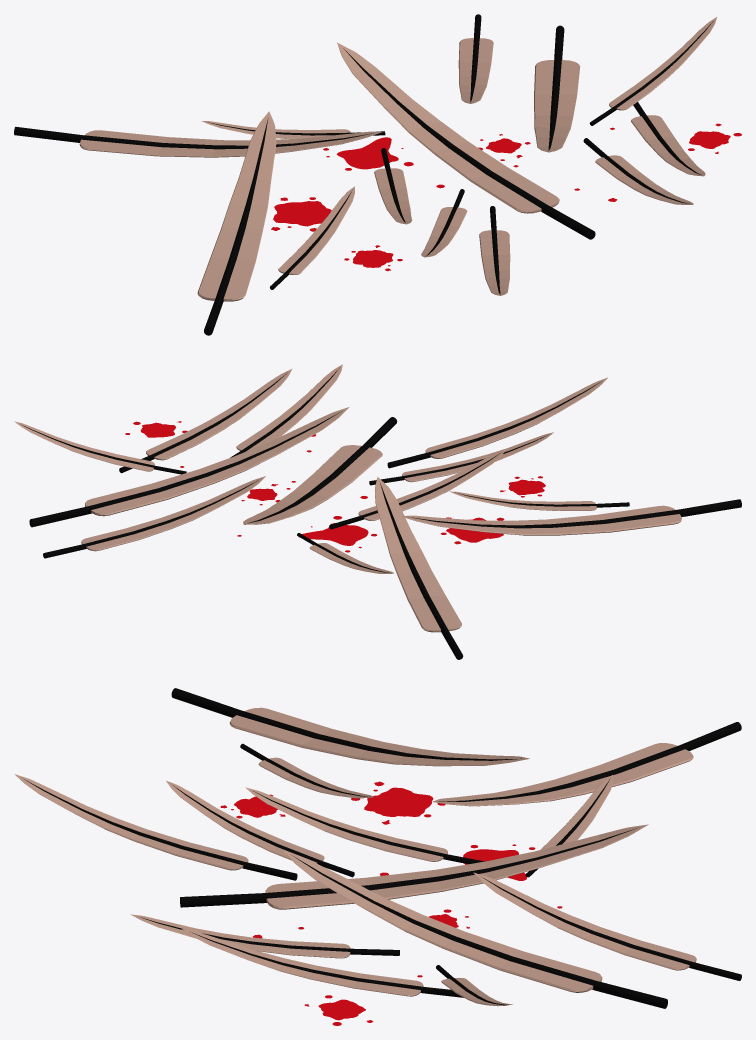
File: palok.glb
3 views of the same model, one above another, from view 1: azimuth 30°, elevation 25°; view 2: azimuth 150°, elevation 25°; view 3: azimuth 270°, elevation 25° (orthographic). The views are drawn at different scales.
Visible parts, largest first — view 1: palok1, palok13, palok7, palok3, palok12, palok8, palok10, palok11, palok4, palok5, palok14, palok9 (+5 smaller); view 2: palok3, palok7, palok13, palok1, palok12, palok11, palok10, palok5, palok14, palok8, palok9, palok4 (+3 smaller); view 3: palok3, palok1, palok13, palok7, palok12, palok11, palok10, palok14, palok5, palok9, palok4, palok6 (+5 smaller).
Part boxes in pixels (<box>): palok1: <box>337,42,595,239</box>; palok13: <box>197,111,276,335</box>; palok7: <box>14,126,382,157</box>; palok3: <box>534,25,579,152</box>; palok12: <box>458,14,493,103</box>; palok8: <box>589,17,716,125</box>; palok10: <box>631,102,705,176</box>; palok11: <box>479,206,510,295</box>; palok4: <box>270,186,354,289</box>; palok5: <box>583,138,693,204</box>; palok14: <box>374,148,412,224</box>; palok9: <box>421,189,467,257</box>; palok3: <box>29,407,349,527</box>; palok7: <box>374,477,463,659</box>; palok13: <box>400,499,741,535</box>; palok1: <box>243,417,397,524</box>; palok12: <box>43,476,265,558</box>; palok11: <box>387,377,607,468</box>; palok10: <box>119,369,291,473</box>; palok5: <box>230,364,342,457</box>; palok14: <box>329,449,506,529</box>; palok8: <box>14,421,186,474</box>; palok9: <box>369,432,553,485</box>; palok4: <box>449,491,629,510</box>; palok3: <box>282,850,667,1008</box>; palok1: <box>180,824,648,909</box>; palok13: <box>171,688,529,766</box>; palok7: <box>432,722,741,806</box>; palok12: <box>473,872,741,980</box>; palok11: <box>14,774,297,880</box>; palok10: <box>181,928,463,997</box>; palok14: <box>245,787,484,864</box>; palok5: <box>130,914,399,958</box>; palok9: <box>166,780,354,877</box>; palok4: <box>240,743,373,798</box>; palok6: <box>525,775,613,877</box>.
Size of the model in its own units: 119 by 9.13 by 101.
